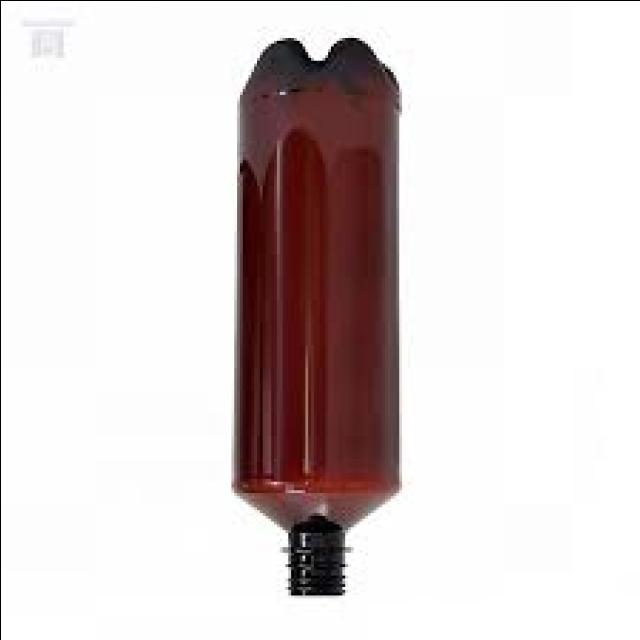bottom: (226, 36, 415, 103)
no_cap: (264, 534, 362, 604)
